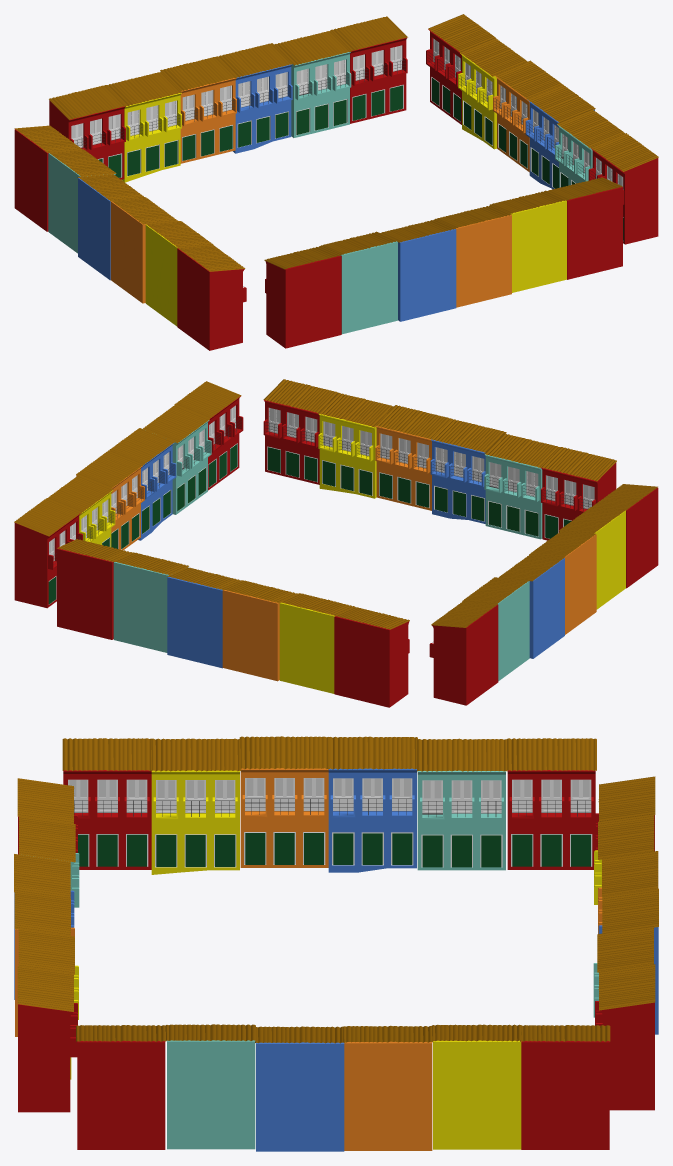
Rendered from MegaCidade Brasil.fbx.
3 renders of one model, top to bottom at view 1: azimuth 30°, elevation 25°; view 2: azimuth 150°, elevation 25°; view 3: azimuth 270°, elevation 25°, orthographic. The views are drawn at different scales.
Parts seen in each view (by area): view 1: Casa Modelo 1.021, Casa Modelo 1.018, Casa Modelo v2.005, Casa Modelo v4.006, Casa Modelo v5.006, Casa Modelo 1.011, Casa Modelo 1.014, Casa Modelo v4.009, Casa Modelo v2.008, Casa Modelo 1.019, Casa Modelo 1.020, Casa Modelo v5.007 (+12 smaller); view 2: Casa Modelo 1.013, Casa Modelo 1.017, Casa Modelo v5.007, Casa Modelo v2.008, Casa Modelo 1.019, Casa Modelo 1.020, Casa Modelo v4.009, Casa Modelo 1.014, Casa Modelo 1.011, Casa Modelo v5.006, Casa Modelo v4.006, Casa Modelo v2.005 (+12 smaller); view 3: Casa Modelo v4.008, Casa Modelo v5.008, Casa Modelo v2.007, Casa Modelo 1.022, Casa Modelo 1.017, Casa Modelo v2.006, Casa Modelo 1.009, Casa Modelo v5.005, Casa Modelo 1.015, Casa Modelo v4.007, Casa Modelo 1.016, Casa Modelo 1.018 (+12 smaller).
Part boxes in pixels (left/top/right/bottom): Casa Modelo 1.021: left=264, top=246, right=341, bottom=348; Casa Modelo 1.018: left=177, top=244, right=246, bottom=350; Casa Modelo v2.005: left=274, top=30, right=351, bottom=137; Casa Modelo v4.006: left=217, top=43, right=292, bottom=153; Casa Modelo v5.006: left=105, top=71, right=181, bottom=182; Casa Modelo 1.011: left=330, top=16, right=407, bottom=123; Casa Modelo 1.014: left=160, top=56, right=236, bottom=163; Casa Modelo v4.009: left=380, top=219, right=456, bottom=321; Casa Modelo v2.008: left=321, top=231, right=397, bottom=334; Casa Modelo 1.019: left=435, top=205, right=511, bottom=307; Casa Modelo 1.020: left=547, top=177, right=622, bottom=279; Casa Modelo v5.007: left=490, top=190, right=566, bottom=292; Casa Modelo 1.013: left=334, top=606, right=409, bottom=707; Casa Modelo 1.017: left=429, top=601, right=498, bottom=705; Casa Modelo v5.007: left=318, top=393, right=393, bottom=498; Casa Modelo v2.008: left=484, top=433, right=560, bottom=539; Casa Modelo 1.019: left=375, top=405, right=450, bottom=510; Casa Modelo 1.020: left=263, top=379, right=338, bottom=484; Casa Modelo v4.009: left=430, top=418, right=506, bottom=523; Casa Modelo 1.014: left=222, top=580, right=297, bottom=681; Casa Modelo 1.011: left=57, top=539, right=132, bottom=639; Casa Modelo v5.006: left=279, top=593, right=354, bottom=693; Casa Modelo v4.006: left=167, top=567, right=241, bottom=668; Casa Modelo v2.005: left=113, top=552, right=188, bottom=652; Casa Modelo v4.008: left=328, top=736, right=417, bottom=872; Casa Modelo v5.008: left=151, top=738, right=241, bottom=874; Casa Modelo v2.007: left=417, top=738, right=507, bottom=870; Casa Modelo 1.022: left=239, top=736, right=329, bottom=867; Casa Modelo 1.017: left=506, top=738, right=596, bottom=869; Casa Modelo v2.006: left=165, top=1024, right=255, bottom=1149; Casa Modelo 1.009: left=343, top=1025, right=433, bottom=1150; Casa Modelo v5.005: left=432, top=1024, right=521, bottom=1149; Casa Modelo 1.015: left=520, top=1025, right=610, bottom=1149; Casa Modelo v4.007: left=255, top=1026, right=345, bottom=1151; Casa Modelo 1.016: left=76, top=1025, right=166, bottom=1149; Casa Modelo 1.018: left=62, top=738, right=151, bottom=869.
Bounding box in the file's own units: 4794 × 838 × 4274.
